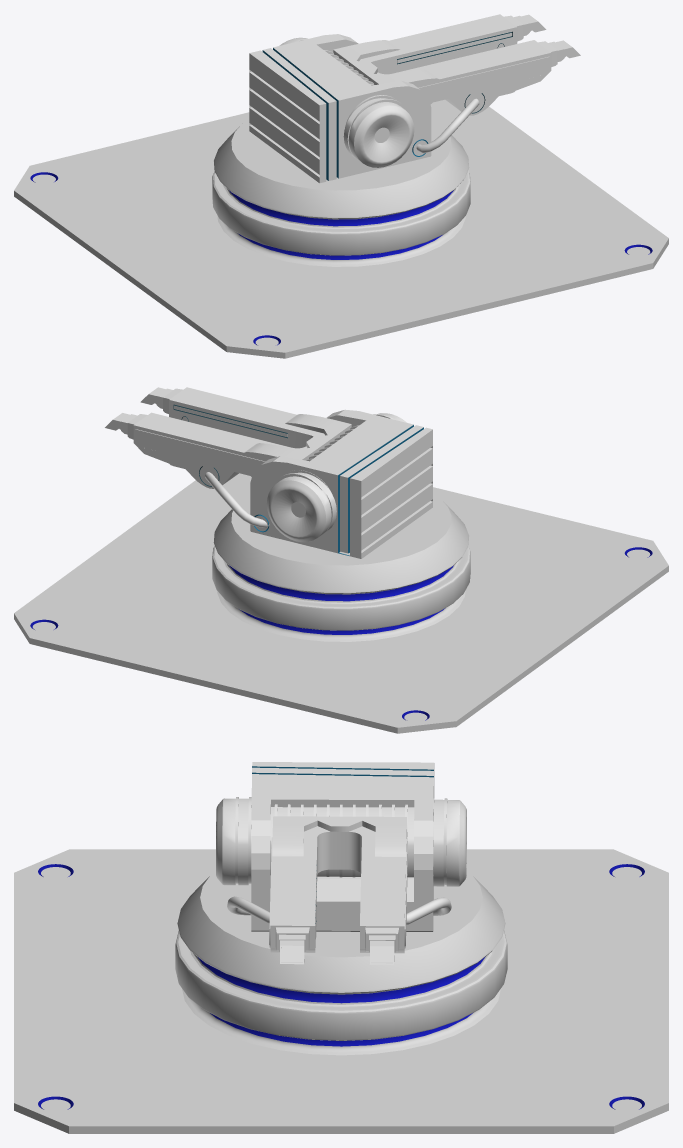
Rendered from SciFiGun3.fbx.
The picture shows the model from 3 angles, top to bottom: view 1: azimuth 30°, elevation 25°; view 2: azimuth 150°, elevation 25°; view 3: azimuth 270°, elevation 25°; orthographic projection. The views are drawn at different scales.
Visible parts, largest first — view 1: Cube, Cube.001, Cube.002, Cylinder, Plane; view 2: Cube, Cube.001, Cube.002, Cylinder, Plane; view 3: Cube, Cube.002, Cube.001, Cylinder, Plane.
Part boxes in pixels (x1,y1,x2,y2): Cube: (14,99,668,358); Cube.001: (249,34,431,183); Cube.002: (333,14,580,115); Cylinder: (279,37,414,167); Plane: (416,98,479,153); Cube: (14,473,668,733); Cube.001: (250,409,432,558); Cube.002: (105,387,351,488); Cylinder: (266,413,406,542); Plane: (205,472,269,527); Cube: (14,849,668,1133); Cube.002: (269,816,407,964); Cube.001: (251,762,434,931); Cylinder: (216,797,466,886); Plane: (227,896,451,924).
Size of the model in its own units: 590 by 217 by 590.
